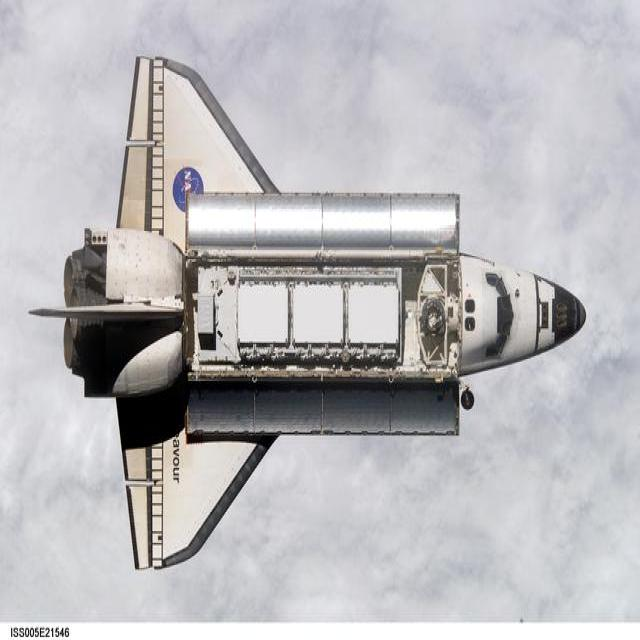medium_debris: (47, 55, 584, 570)
